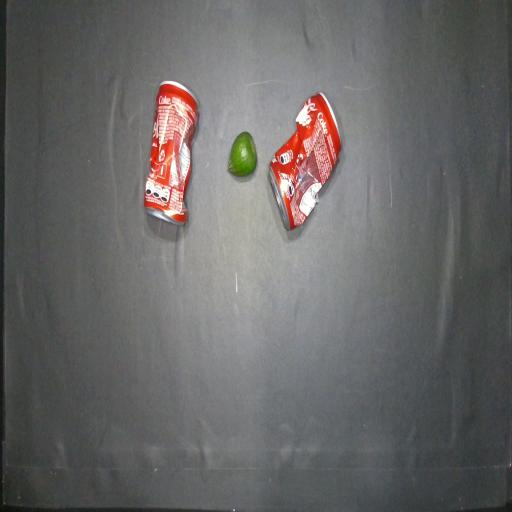higo: (227, 132, 257, 176)
lata_defectuoso: (269, 92, 342, 230), (144, 81, 198, 225)
